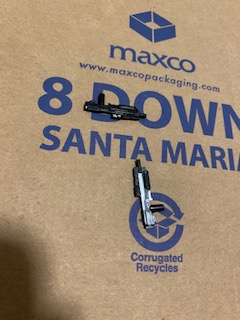rifle: (128, 159, 169, 231), (82, 93, 149, 124)
